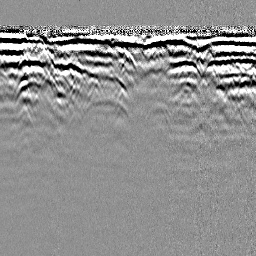cavity: (121, 48, 138, 71)
